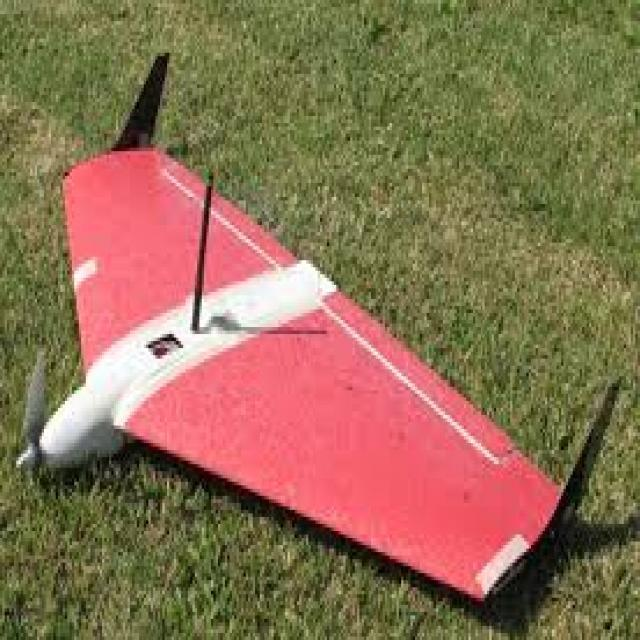UAV: (56, 109, 566, 640)
